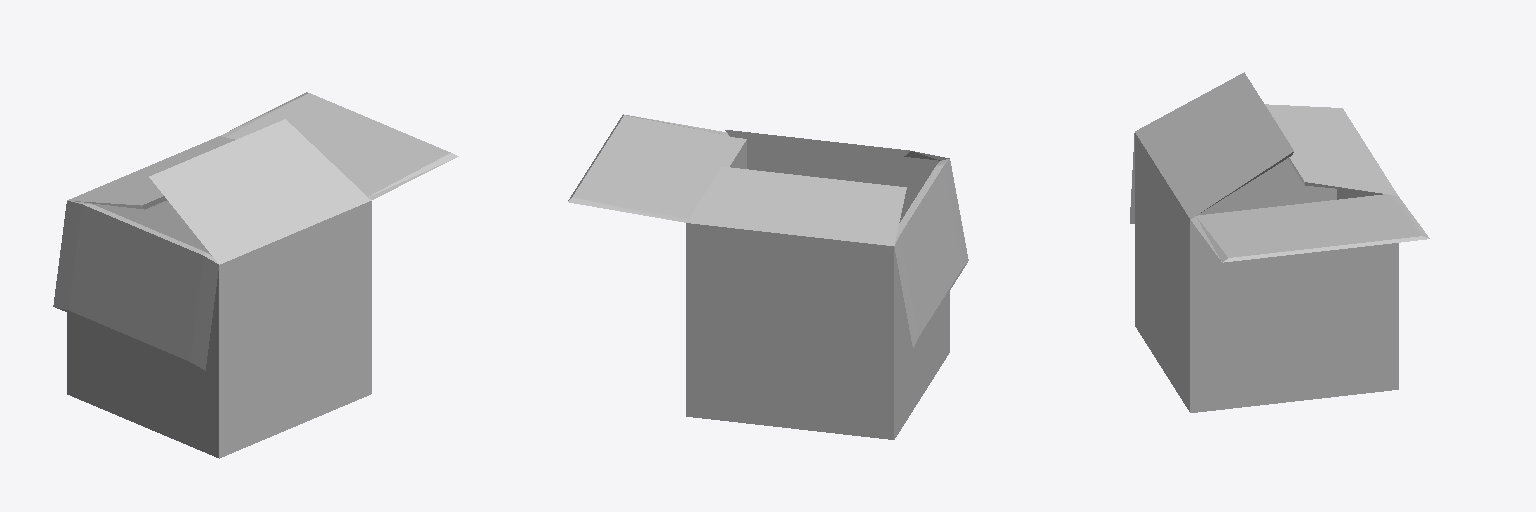
Rendered from Outline_box.obj.
The picture shows the model from 3 angles: view 1: azimuth 30°, elevation 25°; view 2: azimuth 150°, elevation 25°; view 3: azimuth 270°, elevation 25°; orthographic projection.
Visible parts, largest first — view 1: Props_Box_Geo:pCube128; view 2: Props_Box_Geo:pCube128; view 3: Props_Box_Geo:pCube128.
Boxes of the visible parts, <box> form: Props_Box_Geo:pCube128: <box>53,92,458,458</box>; Props_Box_Geo:pCube128: <box>568,114,968,439</box>; Props_Box_Geo:pCube128: <box>1130,72,1429,412</box>.
Size of the model in its own units: 1.13 by 0.7606 by 0.8442.